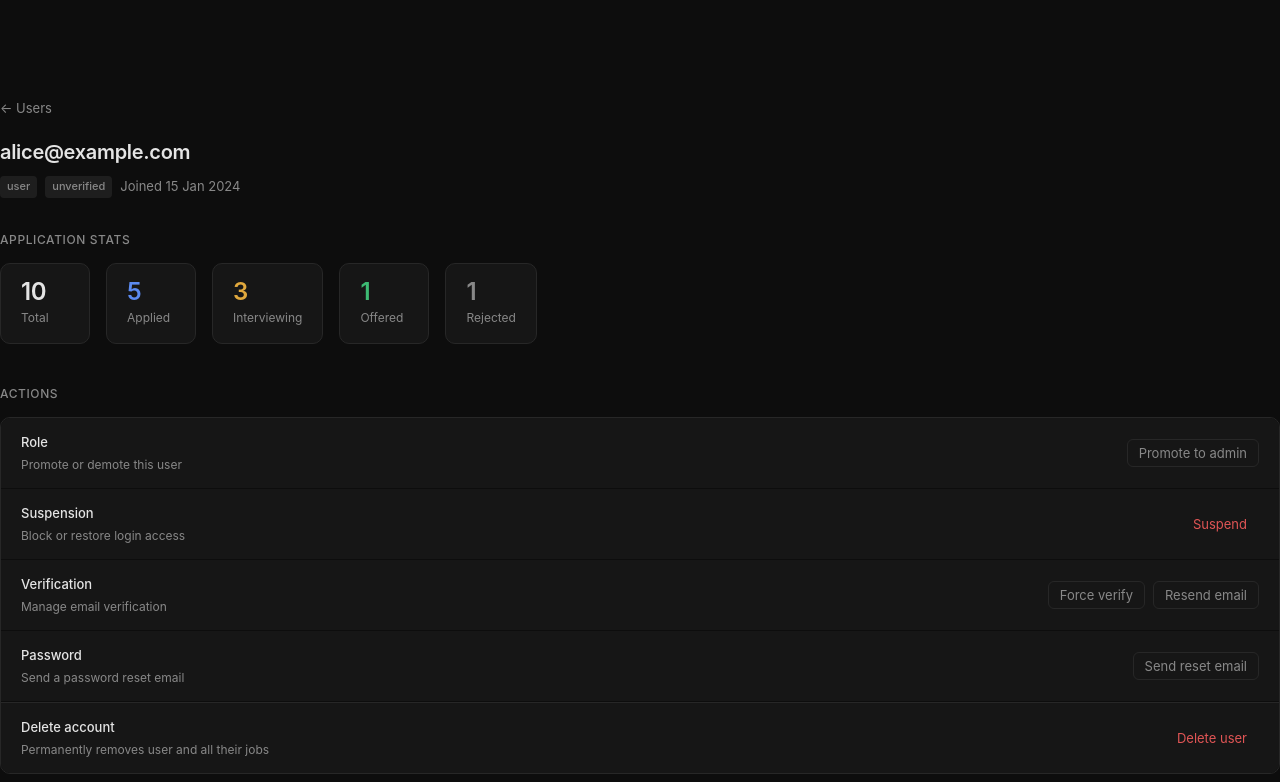
Scenario: AdminUserDetail › shows success message after resendVerification succeeds
Click the button "Resend email": (1206, 595) top-left (1153, 581), bottom-right (1259, 609)
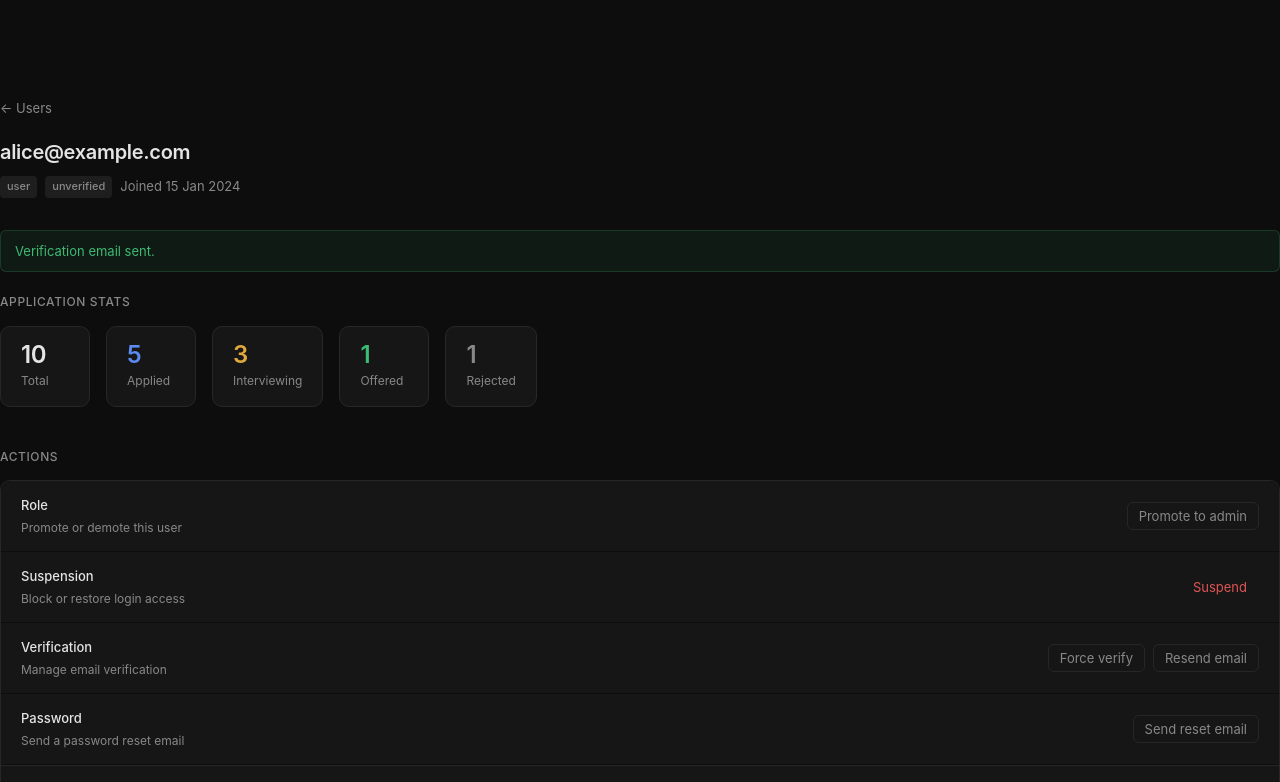
Result: the text with class "action-msg" shows "Verification email sent" at top-left (15, 243), bottom-right (155, 259)
